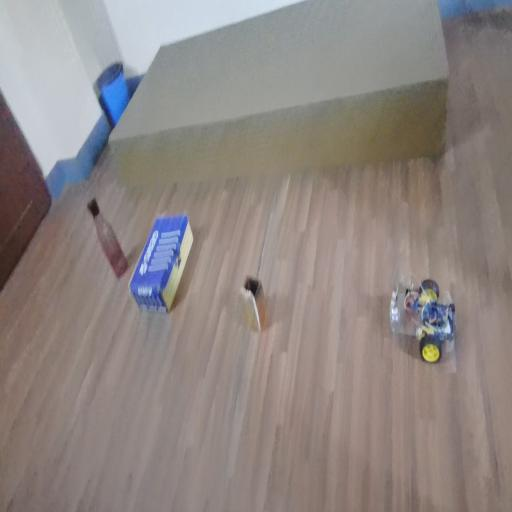Bottle: (83, 187, 132, 272)
car: (384, 251, 465, 375)
